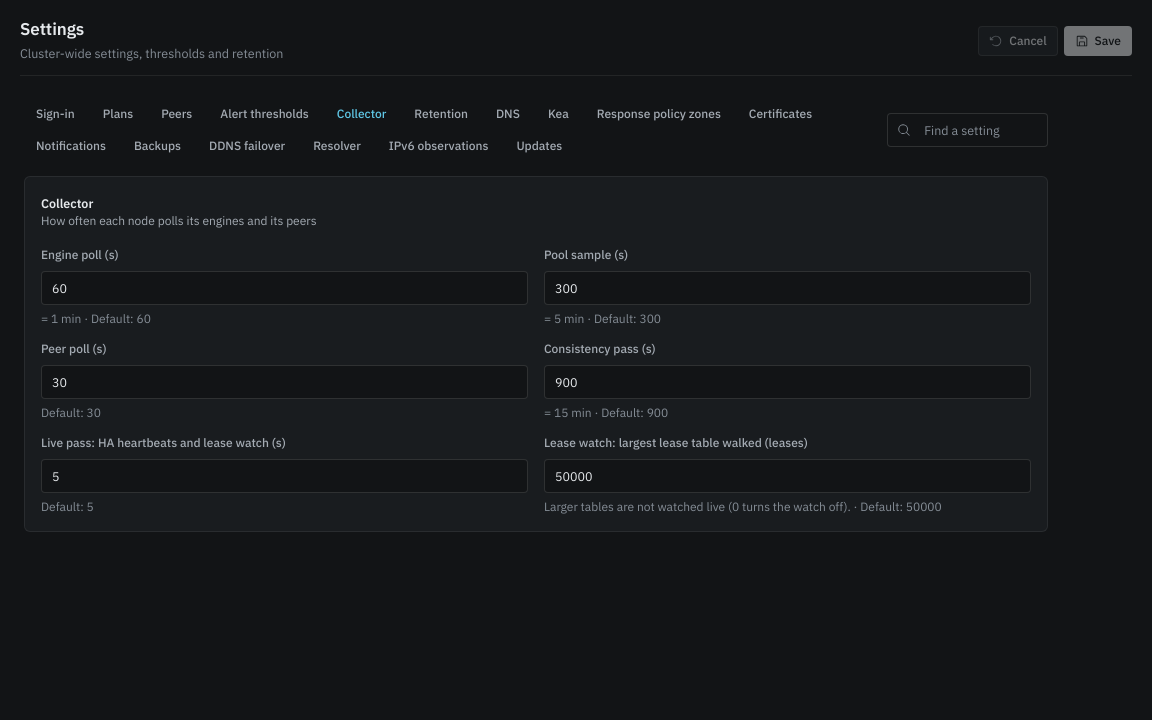
Scenario: SettingsPage › shows the server refusal next to the field
Replace the text in the number field labelled "Engine poll (s)" with "30" at (284, 288), box [41,271,528,305]
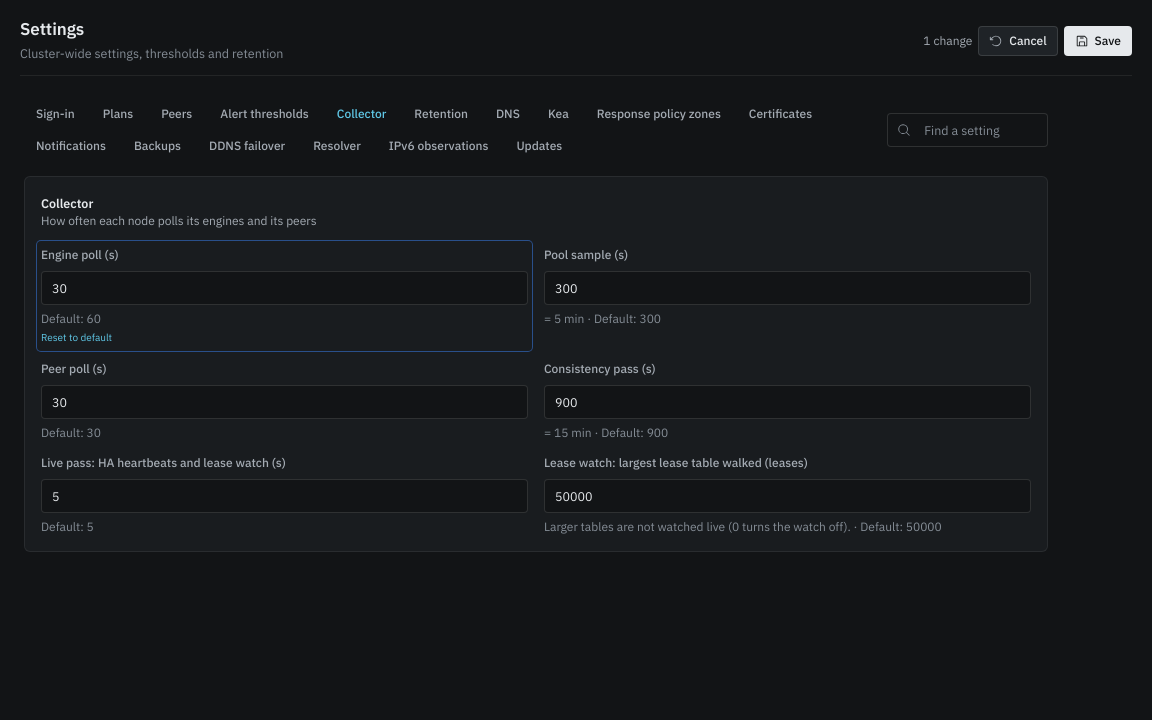
Click the button with test id "settings-save" at (1098, 40), box [1064,26,1132,56]
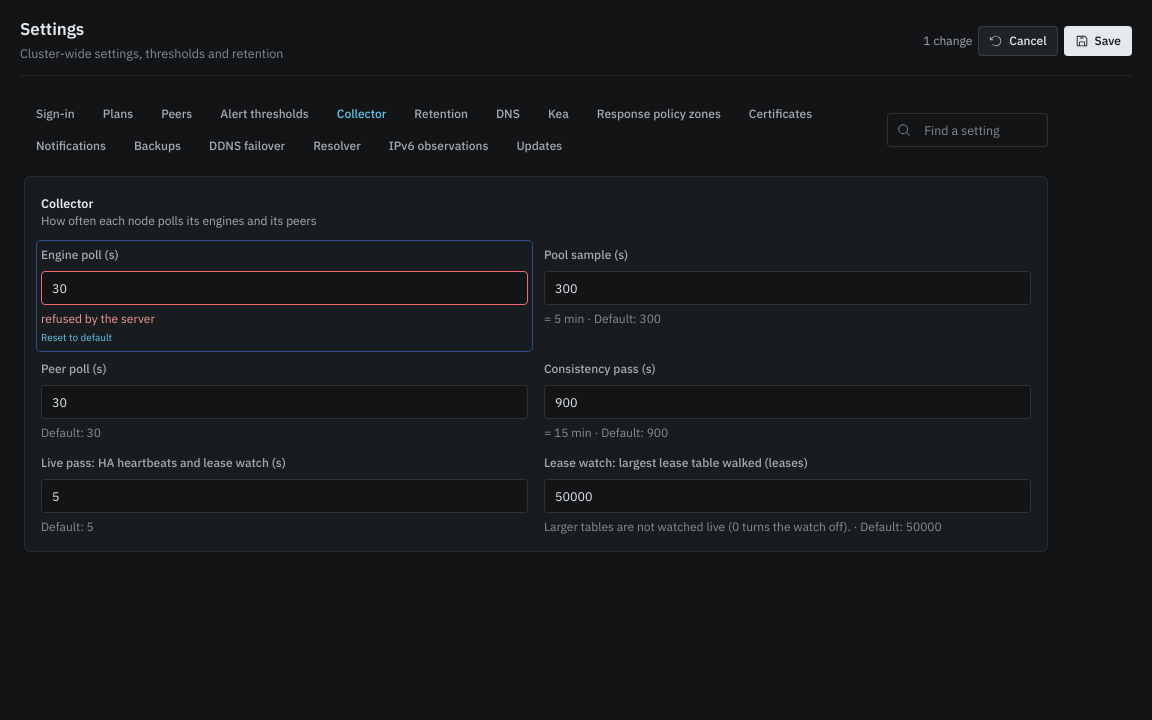
expect the text "refused by the server" is shown: met, box [41,311,155,326]
